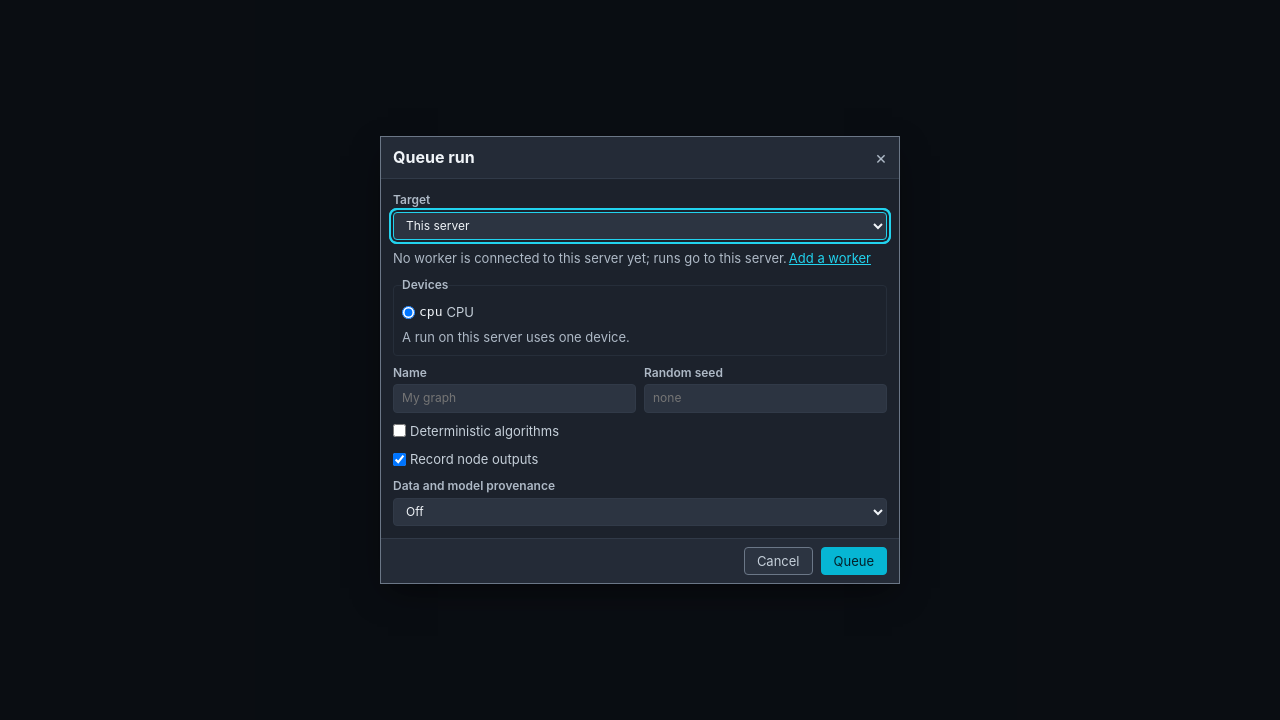
Test: QueueRunDialog: this server › refuses the seed 12a without asking the server
This screenshot has width=1280, height=720.
Step 1. Type "12a" into the field labelled "Random seed" → {"x": 766, "y": 399}, box 644,384 -> 887,413
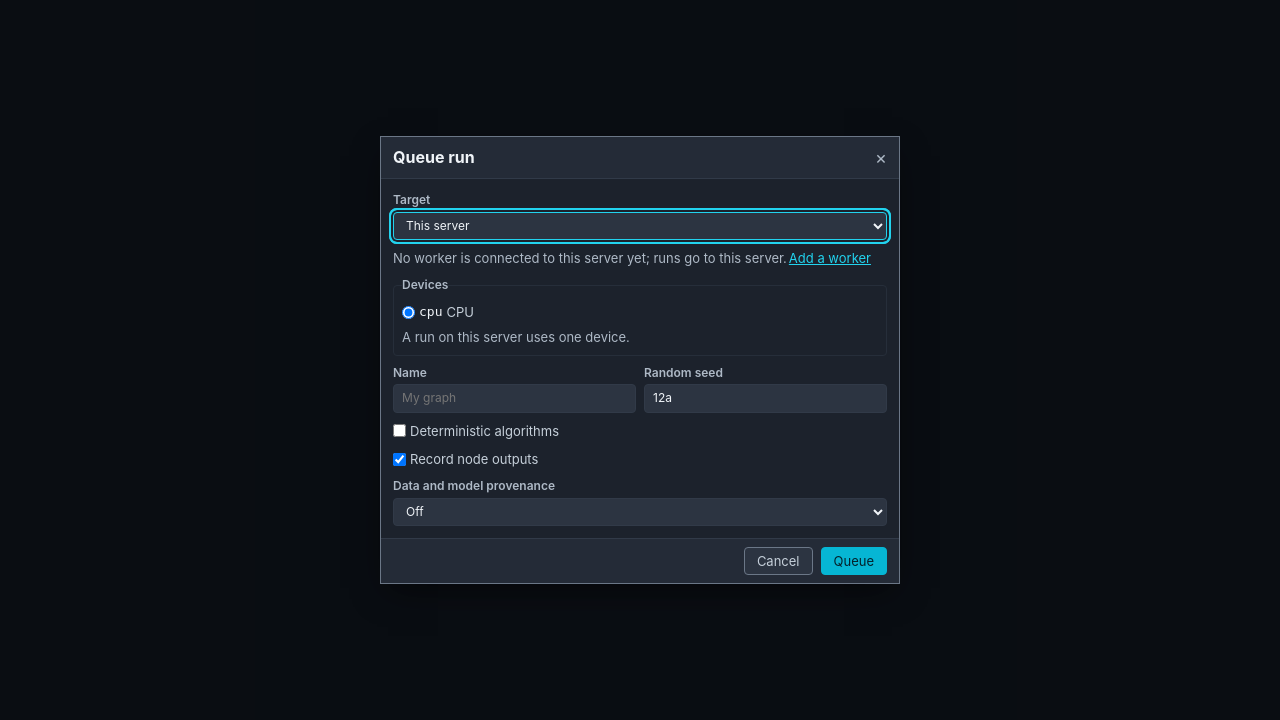
Step 2. Click the button "Queue" → {"x": 854, "y": 561}, box 820,547 -> 887,575
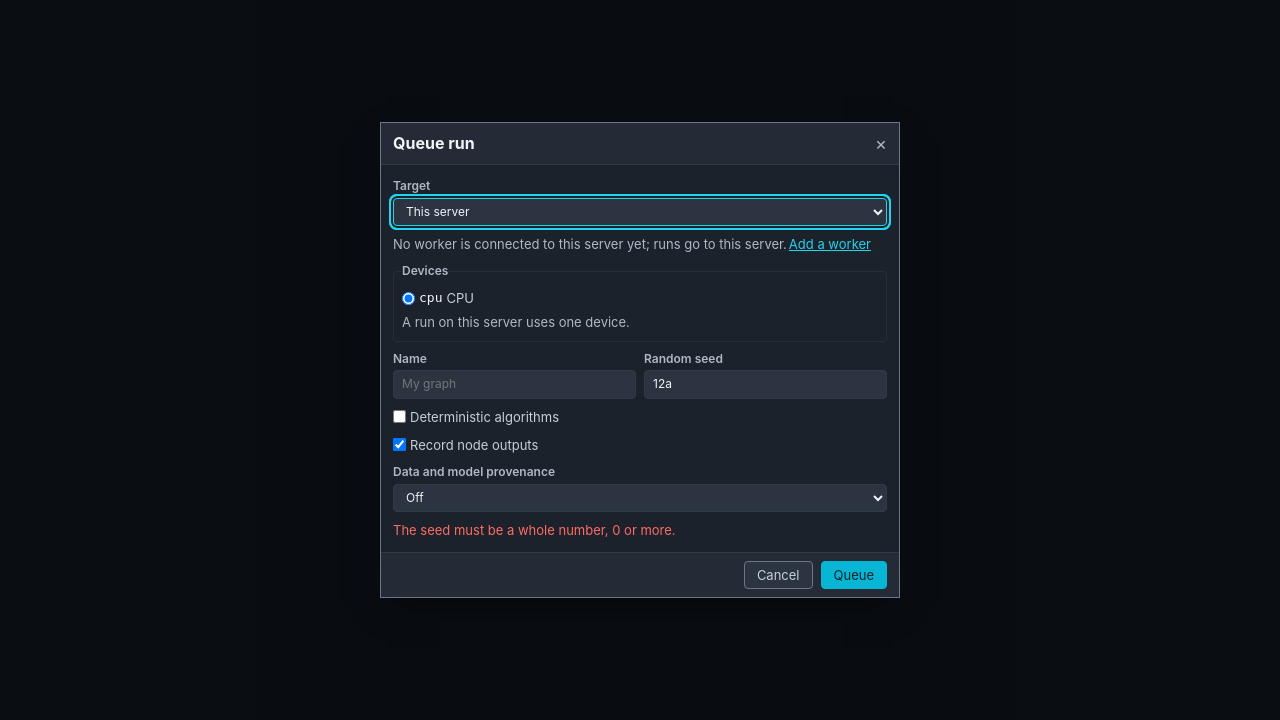
Expected: the message reads "The seed must be a whole number, 0 or more.", 393,522 -> 676,538
